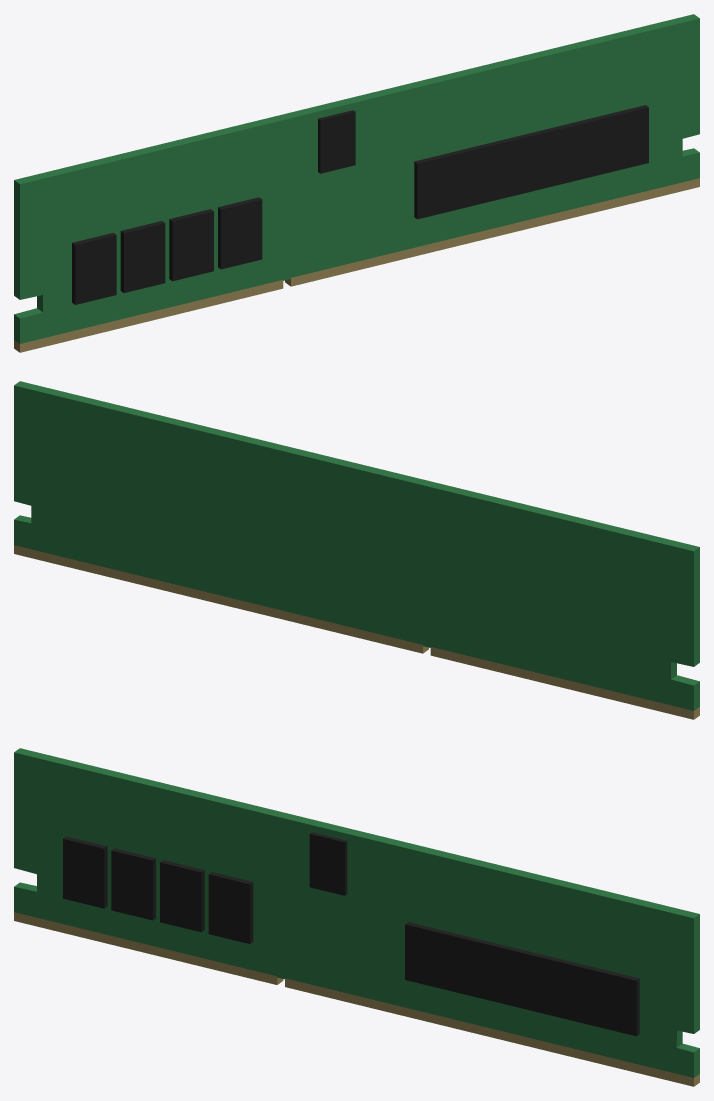
Rendered from RAM.fbx.
3 renders of one model, top to bottom at view 1: azimuth 30°, elevation 25°; view 2: azimuth 150°, elevation 25°; view 3: azimuth 330°, elevation 25°, orthographic.
Parts seen in each view (by area): view 1: RAM_1; view 2: RAM_1; view 3: RAM_1.
Boxes of the visible parts, left/top/right/bottom form: RAM_1: left=14, top=14, right=699, bottom=352; RAM_1: left=14, top=381, right=699, bottom=719; RAM_1: left=14, top=748, right=699, bottom=1086.
Bounding box in the file's own units: 13.2 × 3.12 × 0.31.
